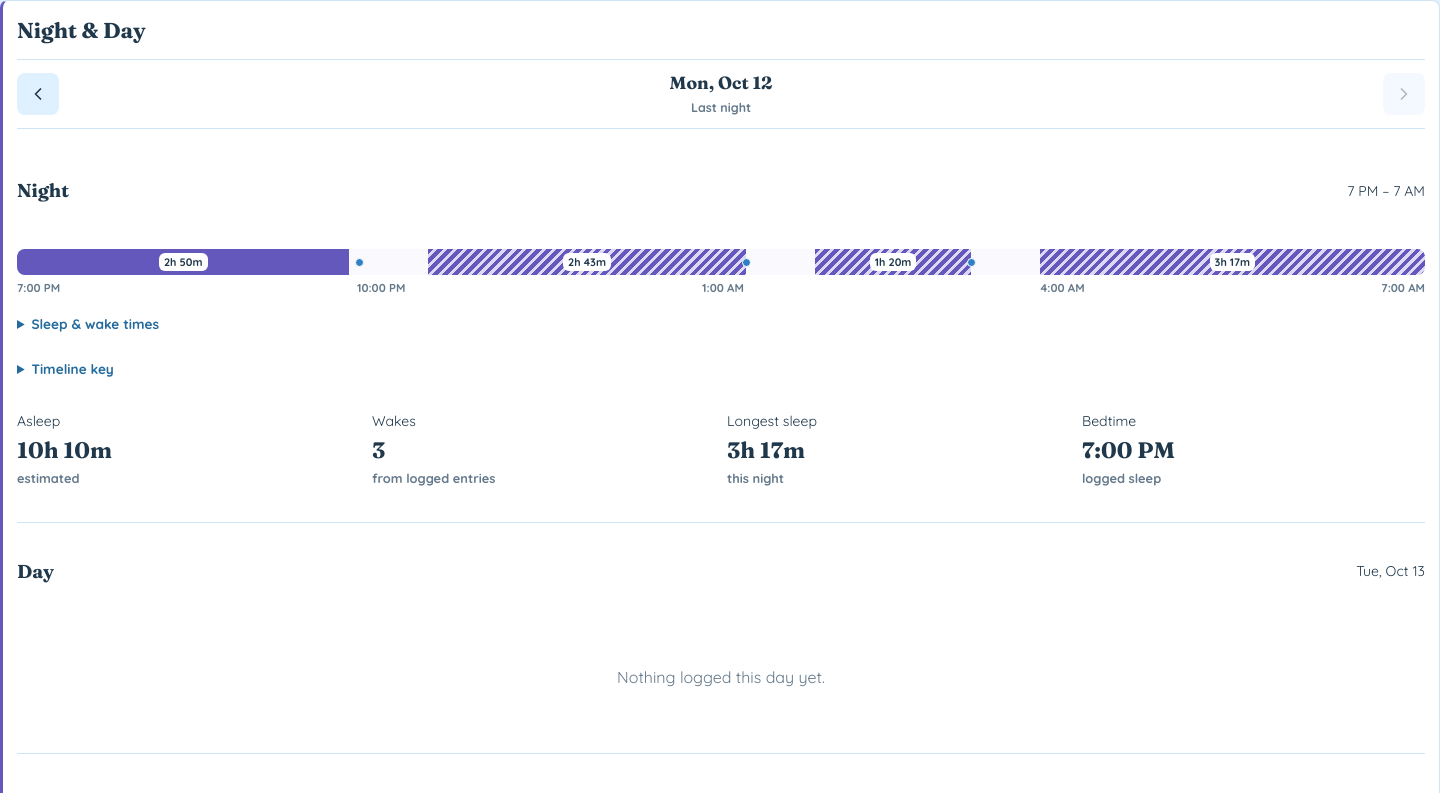
NightReport › steps back to an earlier night and stops at the newest
The image size is (1440, 793).
Check: the button named "Next night" is disabled, box 1383,73 -> 1425,115
Click the button named "Previous night" at (38, 94), box 17,73 -> 59,115
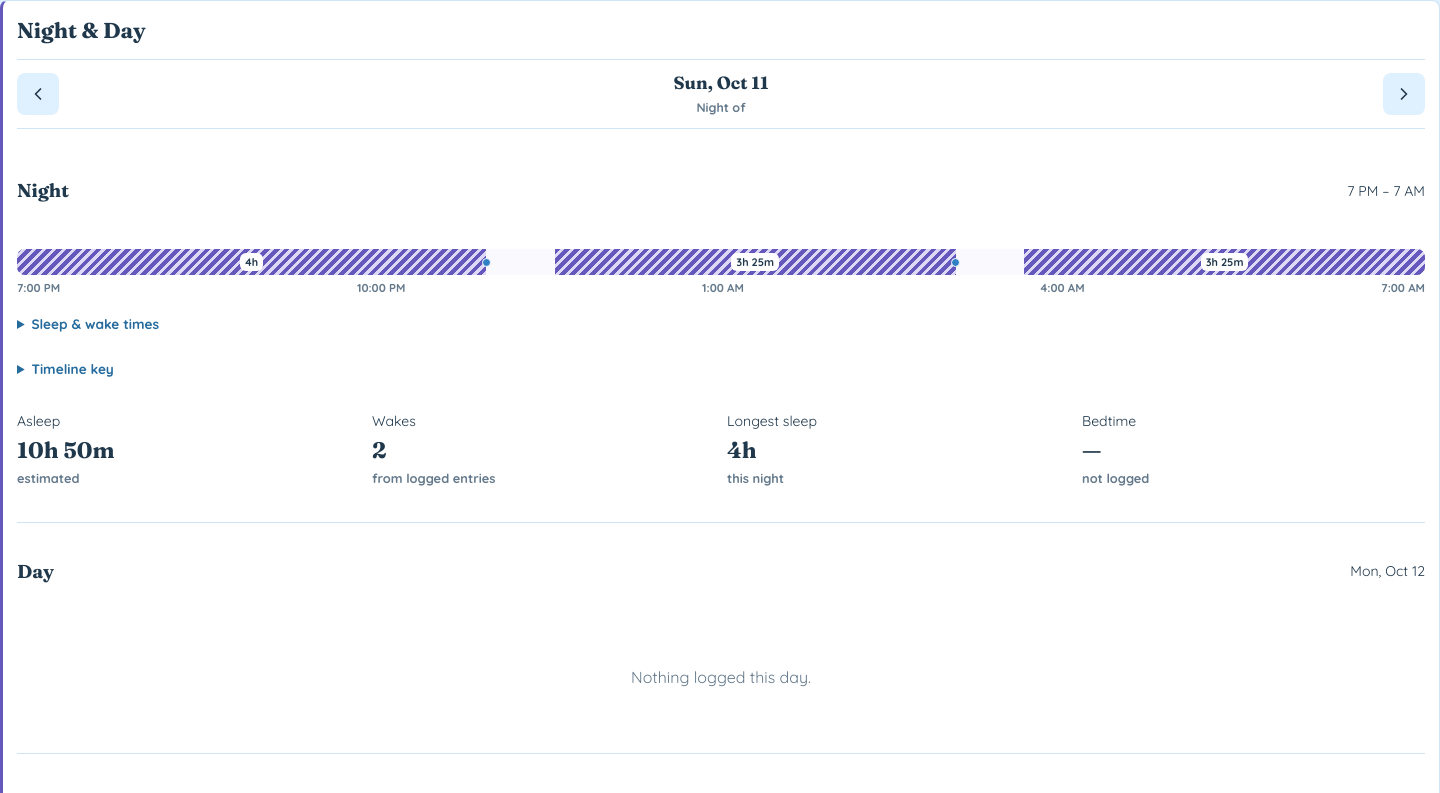
Check: the text "Night of" is shown, box 696,99 -> 746,118
Check: the picture named "2 wakes" is shown, box 17,249 -> 1425,275
